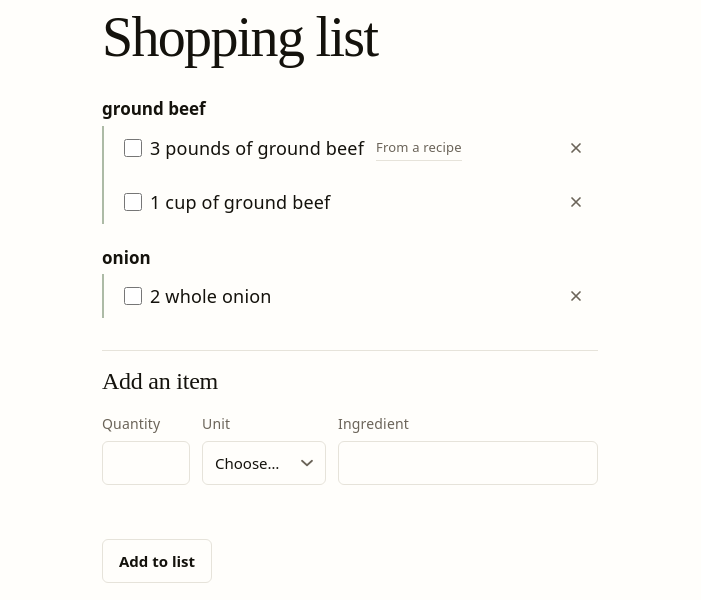
Test case: ShoppingList › refetches the whole list after an add, since the new item may have merged
Type "1" into the number field labelled "Quantity" at (146, 463), box [102,441,190,485]
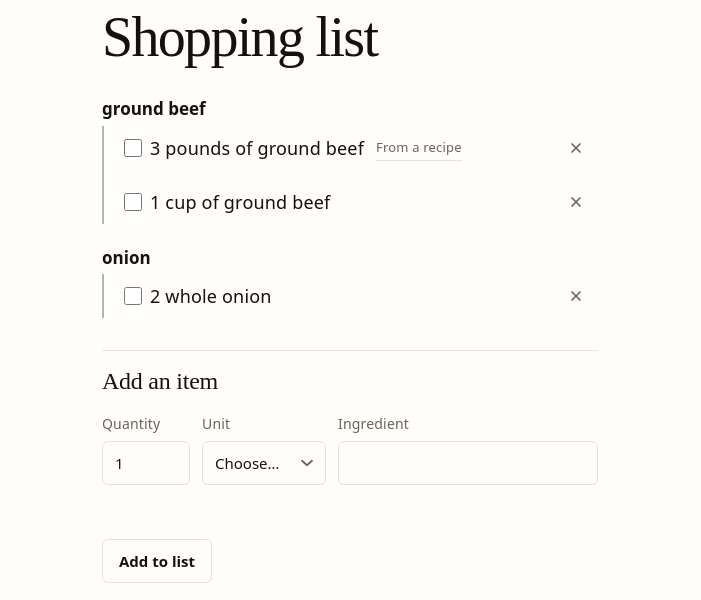
Select "pound" in the dropdown labelled "Unit" at (264, 463), box [202,441,326,485]
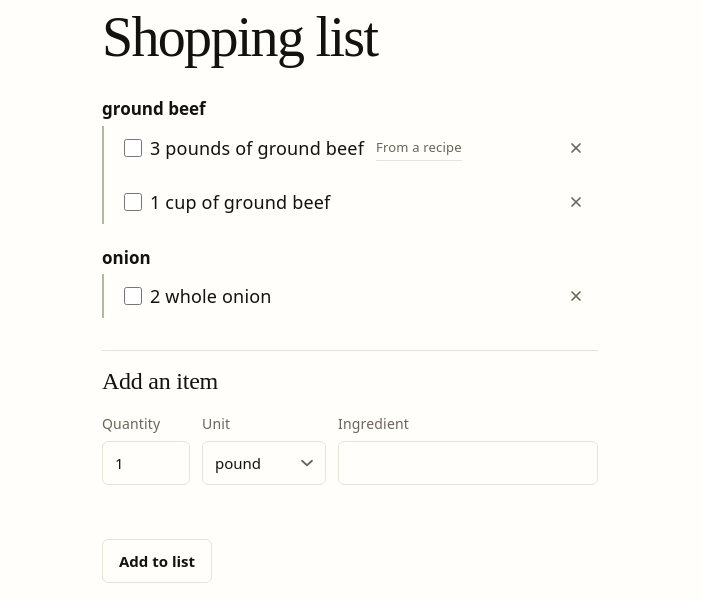
Type "ground beef" into the field labelled "Ingredient" at (468, 463), box [338,441,598,485]
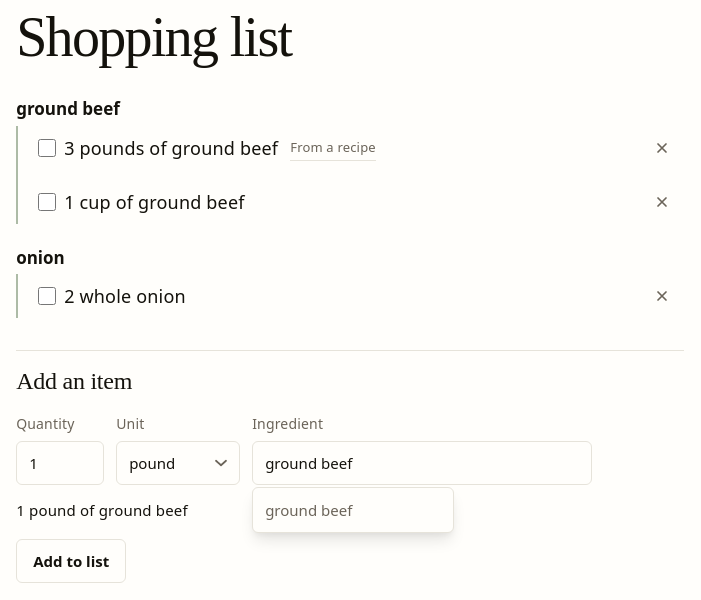
Click the button "ground beef" at (353, 510), box [253,488,453,532]
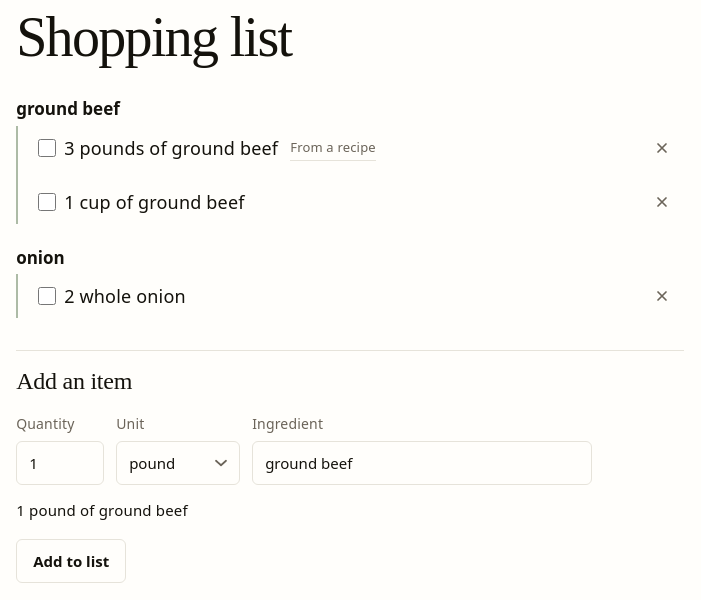
Click the button "Add to list" at (71, 561), box [16,539,126,583]
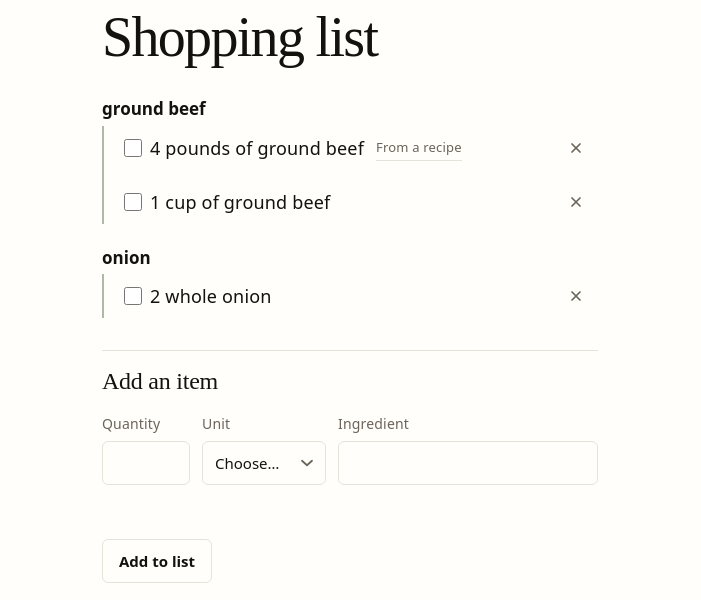
Expected: the text "4 pounds of ground beef" is shown, [150,134,364,161]
